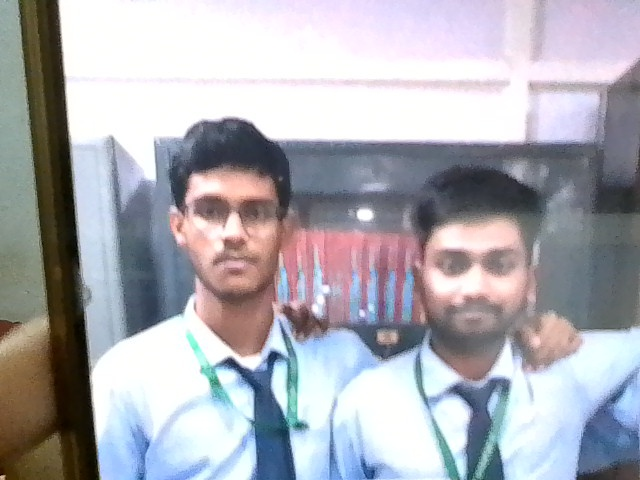real: (169, 126, 293, 302)
